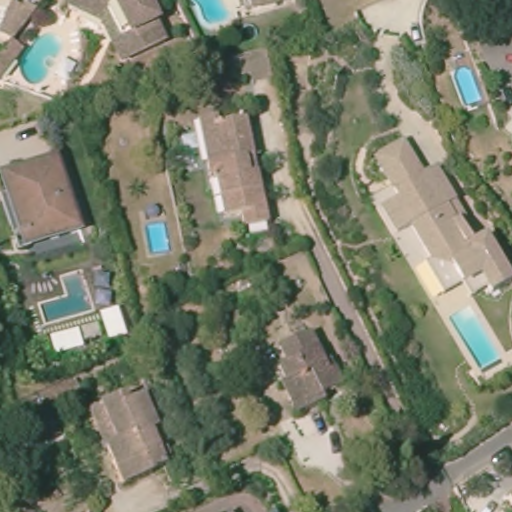pool: (447, 300, 504, 379), (27, 267, 96, 327), (17, 33, 66, 87), (137, 218, 176, 260), (450, 62, 485, 108), (193, 1, 237, 26)
